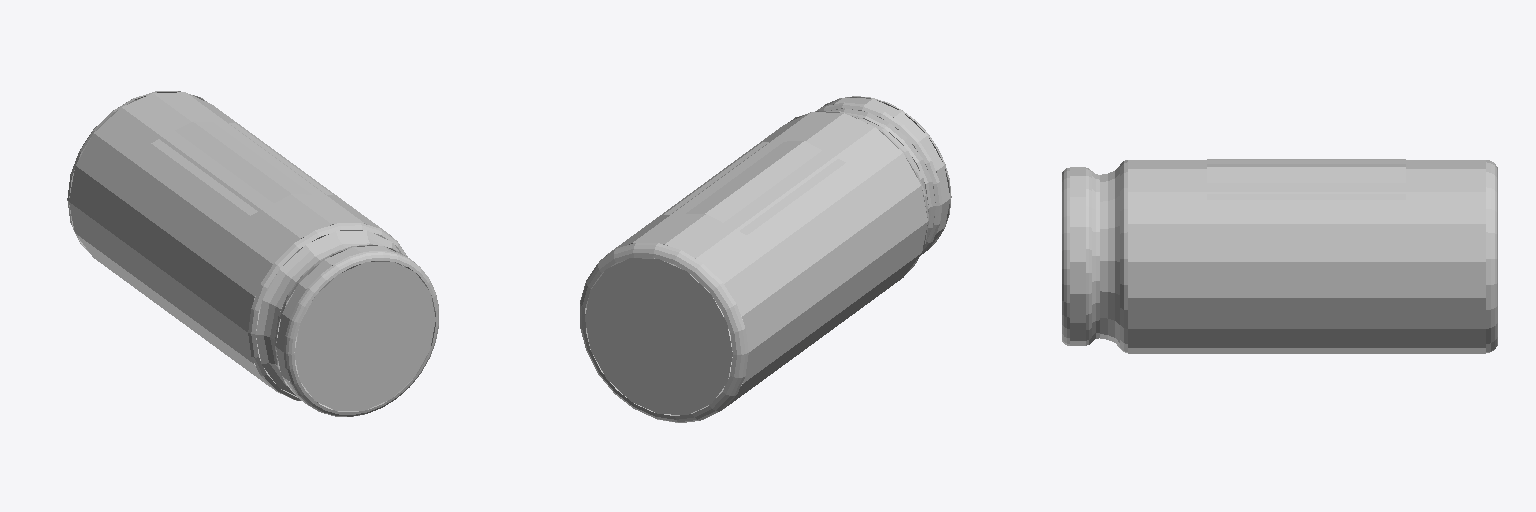
3 views of the same model, side by side, from view 1: azimuth 30°, elevation 25°; view 2: azimuth 150°, elevation 25°; view 3: azimuth 270°, elevation 25° (orthographic).
Visible parts, largest first — view 1: ShapeIndexedFaceSet_ShapeIndexedFaceSet.001, ShapeIndexedFaceSet.004_ShapeIndexedFaceSet.005, ShapeIndexedFaceSet.003_ShapeIndexedFaceSet.004, ShapeIndexedFaceSet.005_ShapeIndexedFaceSet, ShapeIndexedFaceSet.001_ShapeIndexedFaceSet.002; view 2: ShapeIndexedFaceSet_ShapeIndexedFaceSet.001, ShapeIndexedFaceSet.002_ShapeIndexedFaceSet.003, ShapeIndexedFaceSet.001_ShapeIndexedFaceSet.002, ShapeIndexedFaceSet.003_ShapeIndexedFaceSet.004, ShapeIndexedFaceSet.005_ShapeIndexedFaceSet; view 3: ShapeIndexedFaceSet_ShapeIndexedFaceSet.001, ShapeIndexedFaceSet.003_ShapeIndexedFaceSet.004, ShapeIndexedFaceSet.005_ShapeIndexedFaceSet, ShapeIndexedFaceSet.001_ShapeIndexedFaceSet.002.
Part boxes in pixels (x1,y1,x2,y2): ShapeIndexedFaceSet_ShapeIndexedFaceSet.001: (69, 92, 401, 397); ShapeIndexedFaceSet.004_ShapeIndexedFaceSet.005: (294, 262, 435, 411); ShapeIndexedFaceSet.003_ShapeIndexedFaceSet.004: (248, 223, 438, 416); ShapeIndexedFaceSet.005_ShapeIndexedFaceSet: (151, 121, 332, 215); ShapeIndexedFaceSet.001_ShapeIndexedFaceSet.002: (67, 91, 206, 251); ShapeIndexedFaceSet_ShapeIndexedFaceSet.001: (585, 112, 927, 415); ShapeIndexedFaceSet.002_ShapeIndexedFaceSet.003: (585, 258, 732, 414); ShapeIndexedFaceSet.001_ShapeIndexedFaceSet.002: (580, 243, 748, 422); ShapeIndexedFaceSet.003_ShapeIndexedFaceSet.004: (788, 96, 951, 272); ShapeIndexedFaceSet.005_ShapeIndexedFaceSet: (664, 141, 845, 234); ShapeIndexedFaceSet_ShapeIndexedFaceSet.001: (1128, 160, 1485, 353); ShapeIndexedFaceSet.003_ShapeIndexedFaceSet.004: (1062, 160, 1127, 352); ShapeIndexedFaceSet.005_ShapeIndexedFaceSet: (1207, 159, 1405, 199); ShapeIndexedFaceSet.001_ShapeIndexedFaceSet.002: (1486, 160, 1497, 352).
Size of the model in its own units: 17.78 by 17.92 by 40.